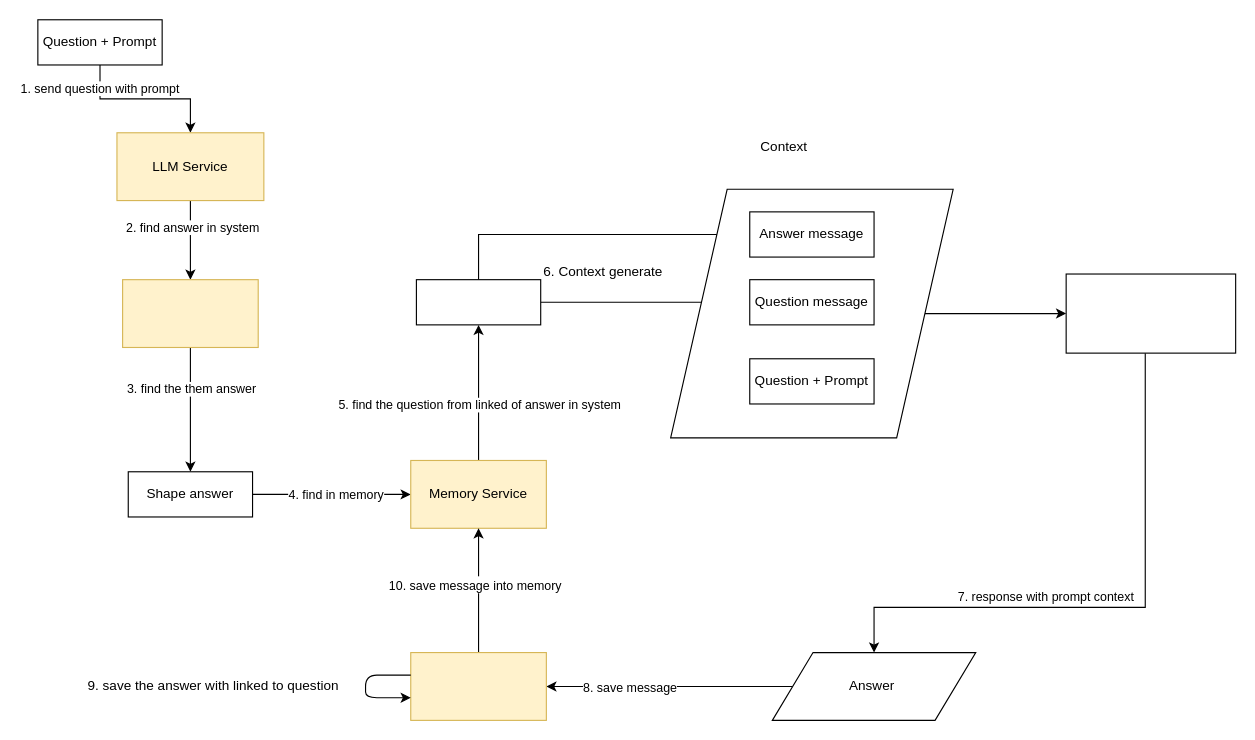
The diagram is 1255 pixels wide and 740 high, and some of its shapes have lost their labels. The shapes that lost their labels are listed below. From the top down, each one's centre as x and y in pixels, then its label:
At point 189,313: "Vector Service".
At point 478,302: "Question memory".
At point 1150,313: "LLMs".
At point 478,685: "Message Service".
